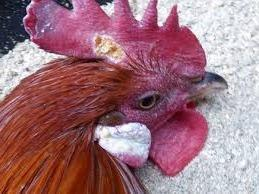AbNormal: (22, 0, 206, 81)
